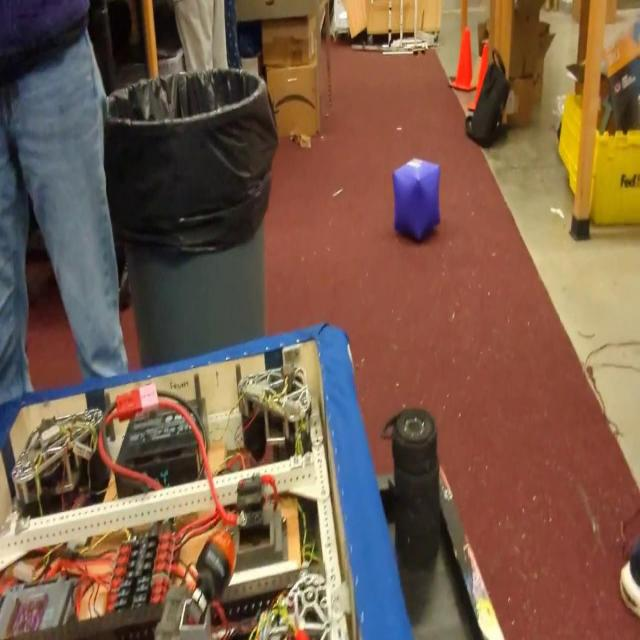frc_cube: (391, 158, 439, 243)
